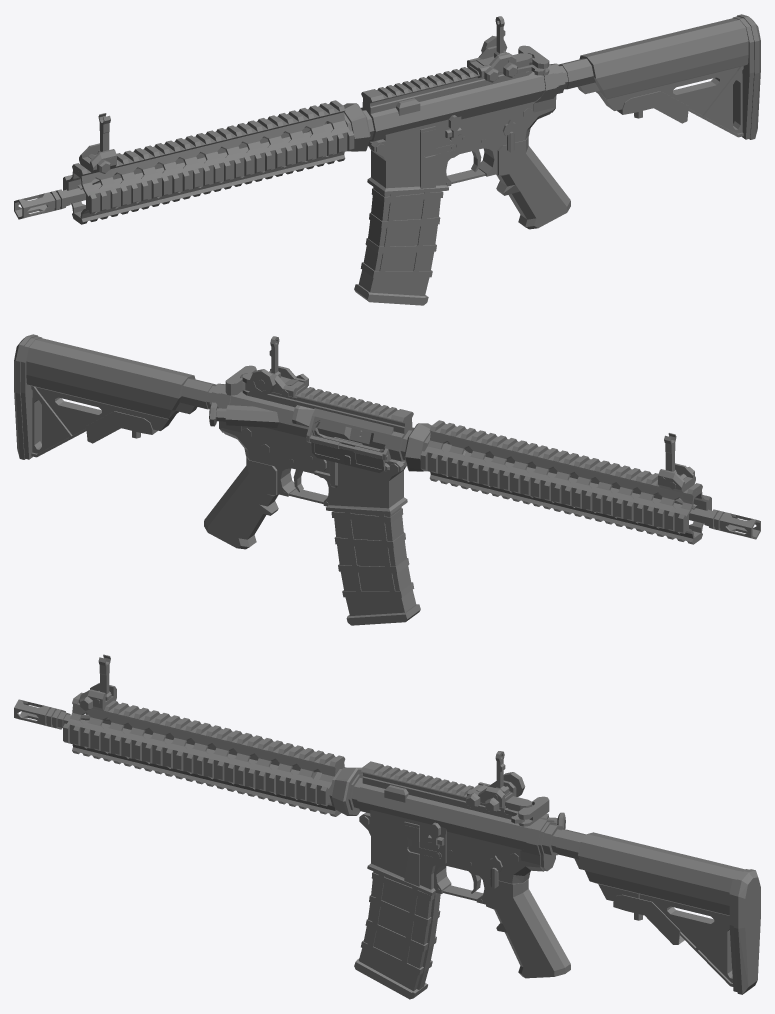
The model's file is MK4 Tactical.obj.
3 renders of one model, top to bottom at view 1: azimuth 30°, elevation 25°; view 2: azimuth 150°, elevation 25°; view 3: azimuth 330°, elevation 25°, orthographic.
Visible parts, largest first — view 1: Meshpart1, Base1, Lower1, Meshpart3, 30rd556x45mmBloxpulMagazine1, ParkeyJrGrip3, Plate1, Barrel1, LazloArmsRearSight1, Retractor1, LazloArmsFrontSight1, BufferTube1 (+1 smaller); view 2: Meshpart1, Base1, Lower1, 30rd556x45mmBloxpulMagazine1, Meshpart3, ParkeyJrGrip3, Plate1, Barrel1, LazloArmsRearSight1, Retractor1, LazloArmsFrontSight1, BufferTube1 (+2 smaller); view 3: Meshpart1, Base1, Meshpart3, Lower1, 30rd556x45mmBloxpulMagazine1, ParkeyJrGrip3, Plate1, LazloArmsRearSight1, Barrel1, Retractor1, BufferTube1, LazloArmsFrontSight1 (+1 smaller).
Boxes of the visible parts, x1,y1,x2,y2 form: Meshpart1: (63,100,374,224); Base1: (579,18,748,137); Lower1: (367,101,553,194); Meshpart3: (361,53,558,141); 30rd556x45mmBloxpulMagazine1: (354,187,443,305); ParkeyJrGrip3: (496,137,570,229); Plate1: (733,14,760,139); Barrel1: (14,123,333,219); LazloArmsRearSight1: (467,16,517,82); Retractor1: (617,91,688,123); LazloArmsFrontSight1: (79,113,116,173); BufferTube1: (550,58,599,94); Meshpart1: (400,420,711,544); Base1: (26,338,195,457); Lower1: (221,426,407,514); 30rd556x45mmBloxpulMagazine1: (331,437,420,625); Meshpart3: (209,373,413,461); ParkeyJrGrip3: (204,457,278,549); Plate1: (14,334,41,459); Barrel1: (441,443,760,539); LazloArmsRearSight1: (249,336,308,398); Retractor1: (86,411,157,443); LazloArmsFrontSight1: (658,433,695,493); BufferTube1: (175,378,224,414); Meshpart1: (63,692,362,816); Base1: (578,832,744,986); Meshpart3: (357,761,565,871); Lower1: (359,810,544,904); 30rd556x45mmBloxpulMagazine1: (354,871,440,999); ParkeyJrGrip3: (486,879,570,978); Plate1: (729,869,760,994); LazloArmsRearSight1: (466,751,525,813); Barrel1: (14,699,321,779); Retractor1: (613,894,684,944); BufferTube1: (542,824,586,869); LazloArmsFrontSight1: (79,654,116,711).
Size of the model in its own units: 4.48 by 1.54 by 0.4013.
3 materials, 3 textured.
